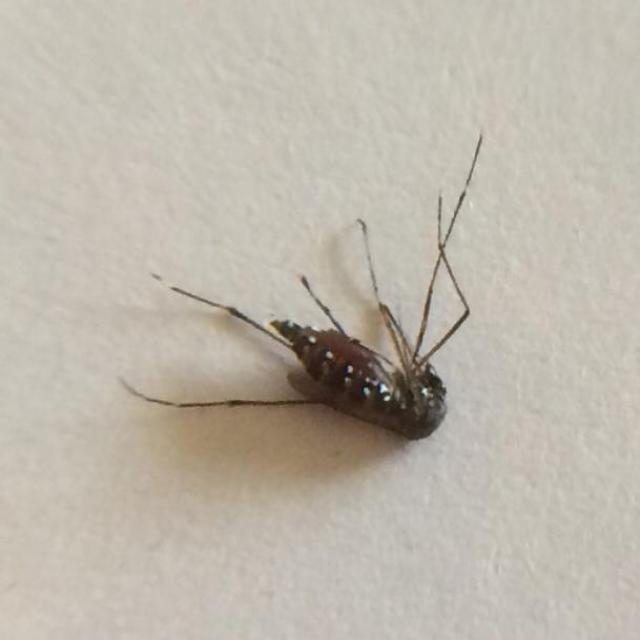albopictus: (135, 134, 510, 465)
